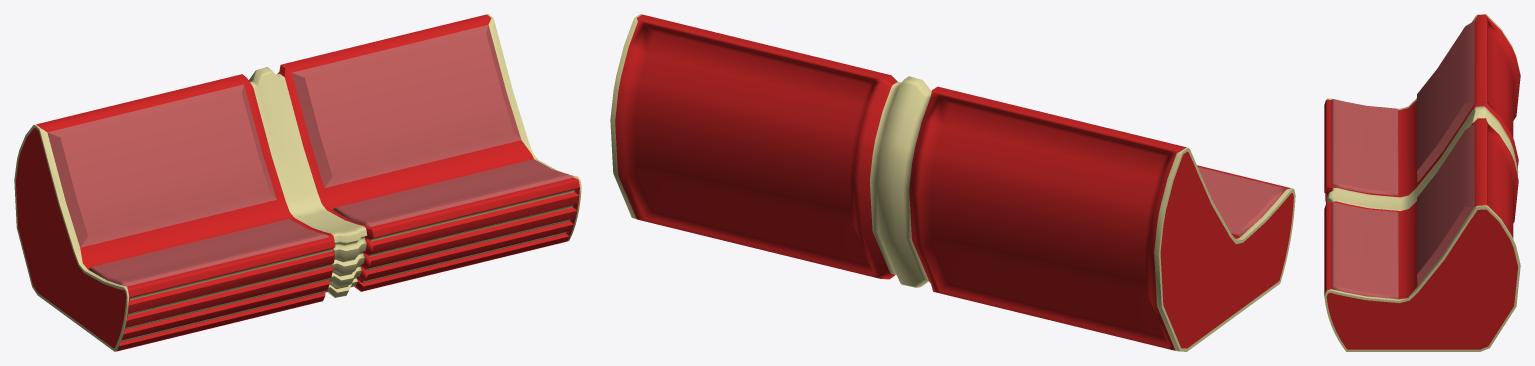
Rendered from Bench_Small.fbx.
3 views of the same model, side by side, from view 1: azimuth 30°, elevation 25°; view 2: azimuth 150°, elevation 25°; view 3: azimuth 270°, elevation 25° (orthographic). The views are drawn at different scales.
Parts seen in each view (by area): view 1: Bench_Small; view 2: Bench_Small; view 3: Bench_Small.
Boxes of the visible parts, x1,y1,x2,y2 form: Bench_Small: [14, 14, 581, 351]; Bench_Small: [610, 14, 1295, 351]; Bench_Small: [1324, 14, 1520, 351].
Bounding box in the file's own units: 315 × 114 × 136.
